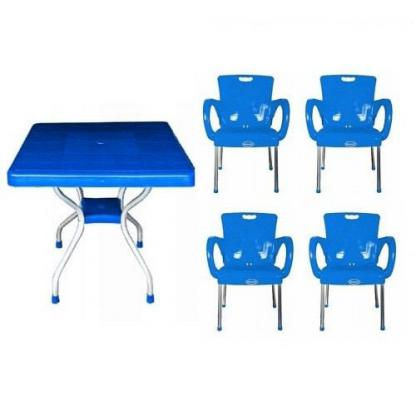chair: (7, 119, 198, 311)
